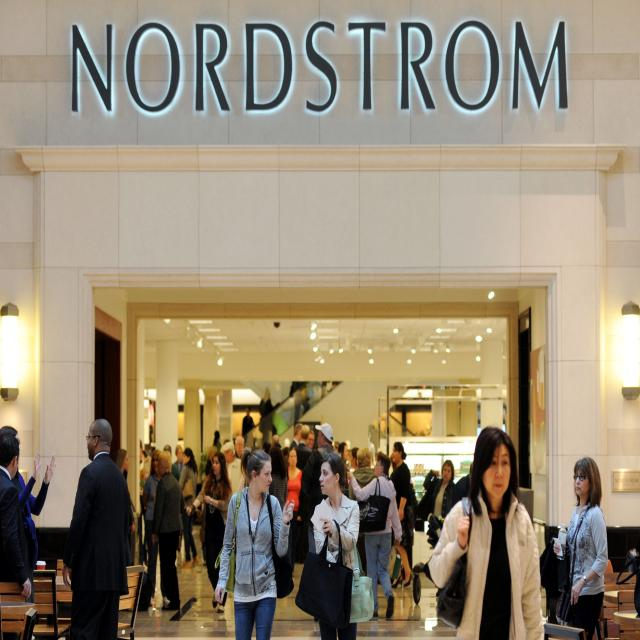body: (425, 421, 547, 640), (61, 415, 133, 640), (213, 446, 296, 640), (293, 450, 376, 640), (551, 453, 610, 640), (0, 425, 57, 604), (346, 450, 404, 620), (204, 426, 359, 484), (183, 447, 236, 616), (298, 422, 349, 565), (0, 434, 38, 600), (151, 449, 183, 612), (142, 449, 170, 608), (237, 380, 332, 425), (388, 441, 415, 589), (348, 445, 377, 578), (176, 446, 202, 568), (421, 459, 459, 532), (115, 447, 136, 567), (285, 445, 304, 573), (268, 445, 289, 515), (454, 461, 481, 513), (168, 442, 188, 482)
